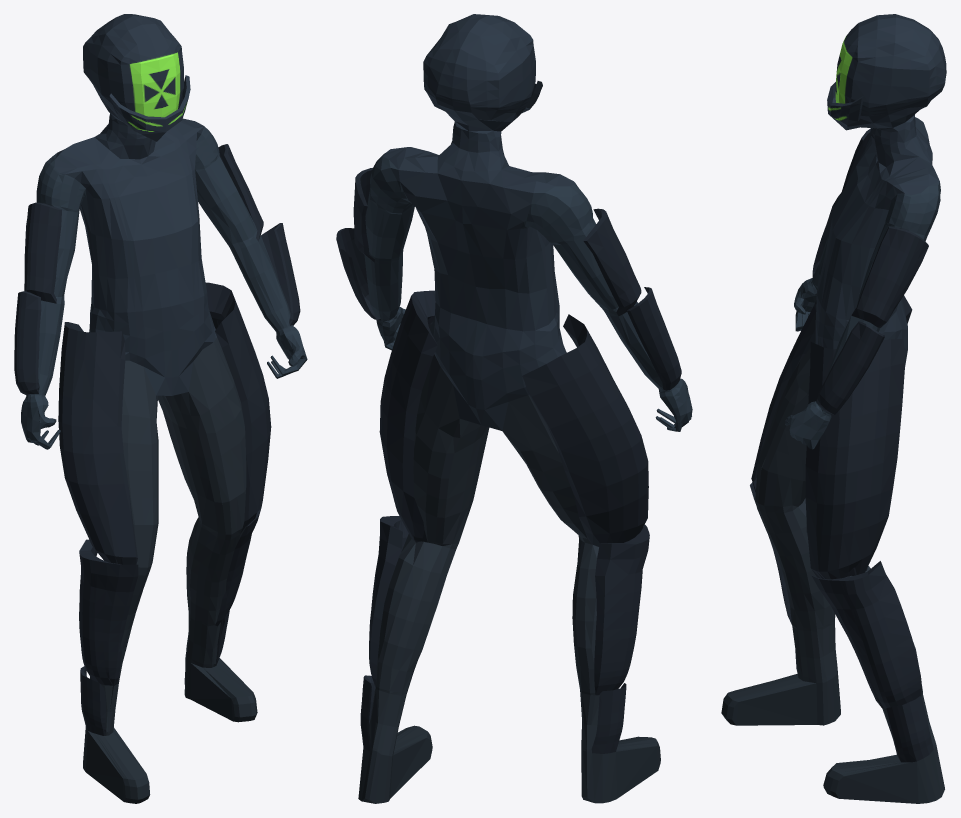
Rendered from Bastion_Stun_000034.obj.
3 views of the same model, side by side, from view 1: azimuth 30°, elevation 25°; view 2: azimuth 150°, elevation 25°; view 3: azimuth 270°, elevation 25° (orthographic). The views are drawn at different scales.
Parts seen in each view (by area): view 1: Cube.002; view 2: Cube.002; view 3: Cube.002.
Boxes of the visible parts, x1,y1,x2,y2 form: Cube.002: [14, 14, 307, 803]; Cube.002: [336, 14, 692, 803]; Cube.002: [721, 14, 946, 803].
Size of the model in its own units: 1.61 by 3.79 by 1.05.
